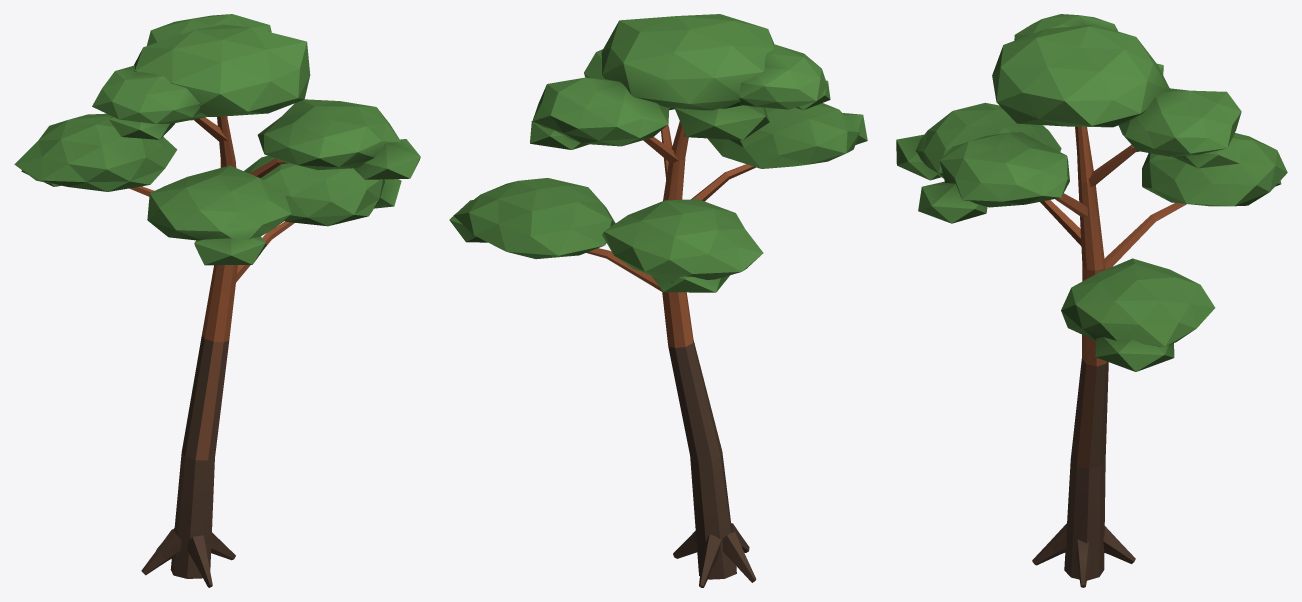
The model's file is tree_big_pine.glb.
The picture shows the model from 3 angles, left to right: view 1: azimuth 30°, elevation 25°; view 2: azimuth 150°, elevation 25°; view 3: azimuth 270°, elevation 25°; orthographic projection. The views are drawn at different scales.
Bounding box in the file's own units: 8.64 × 13.05 × 8.58.
